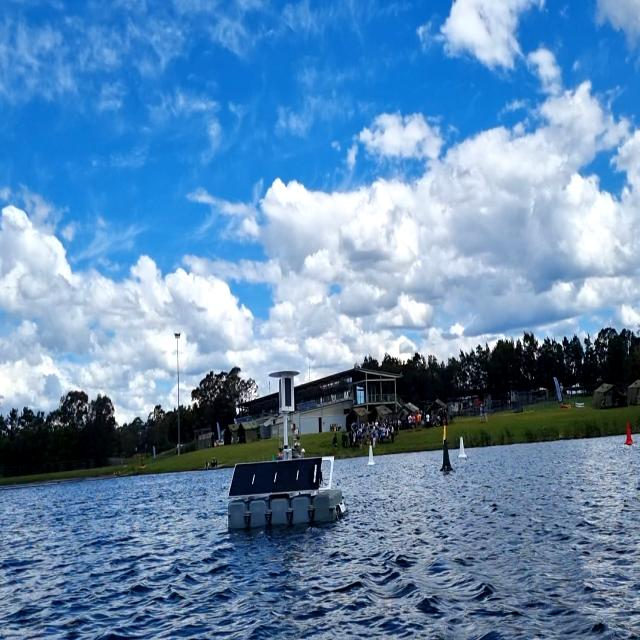led: (282, 374, 294, 410), (279, 376, 282, 411)
